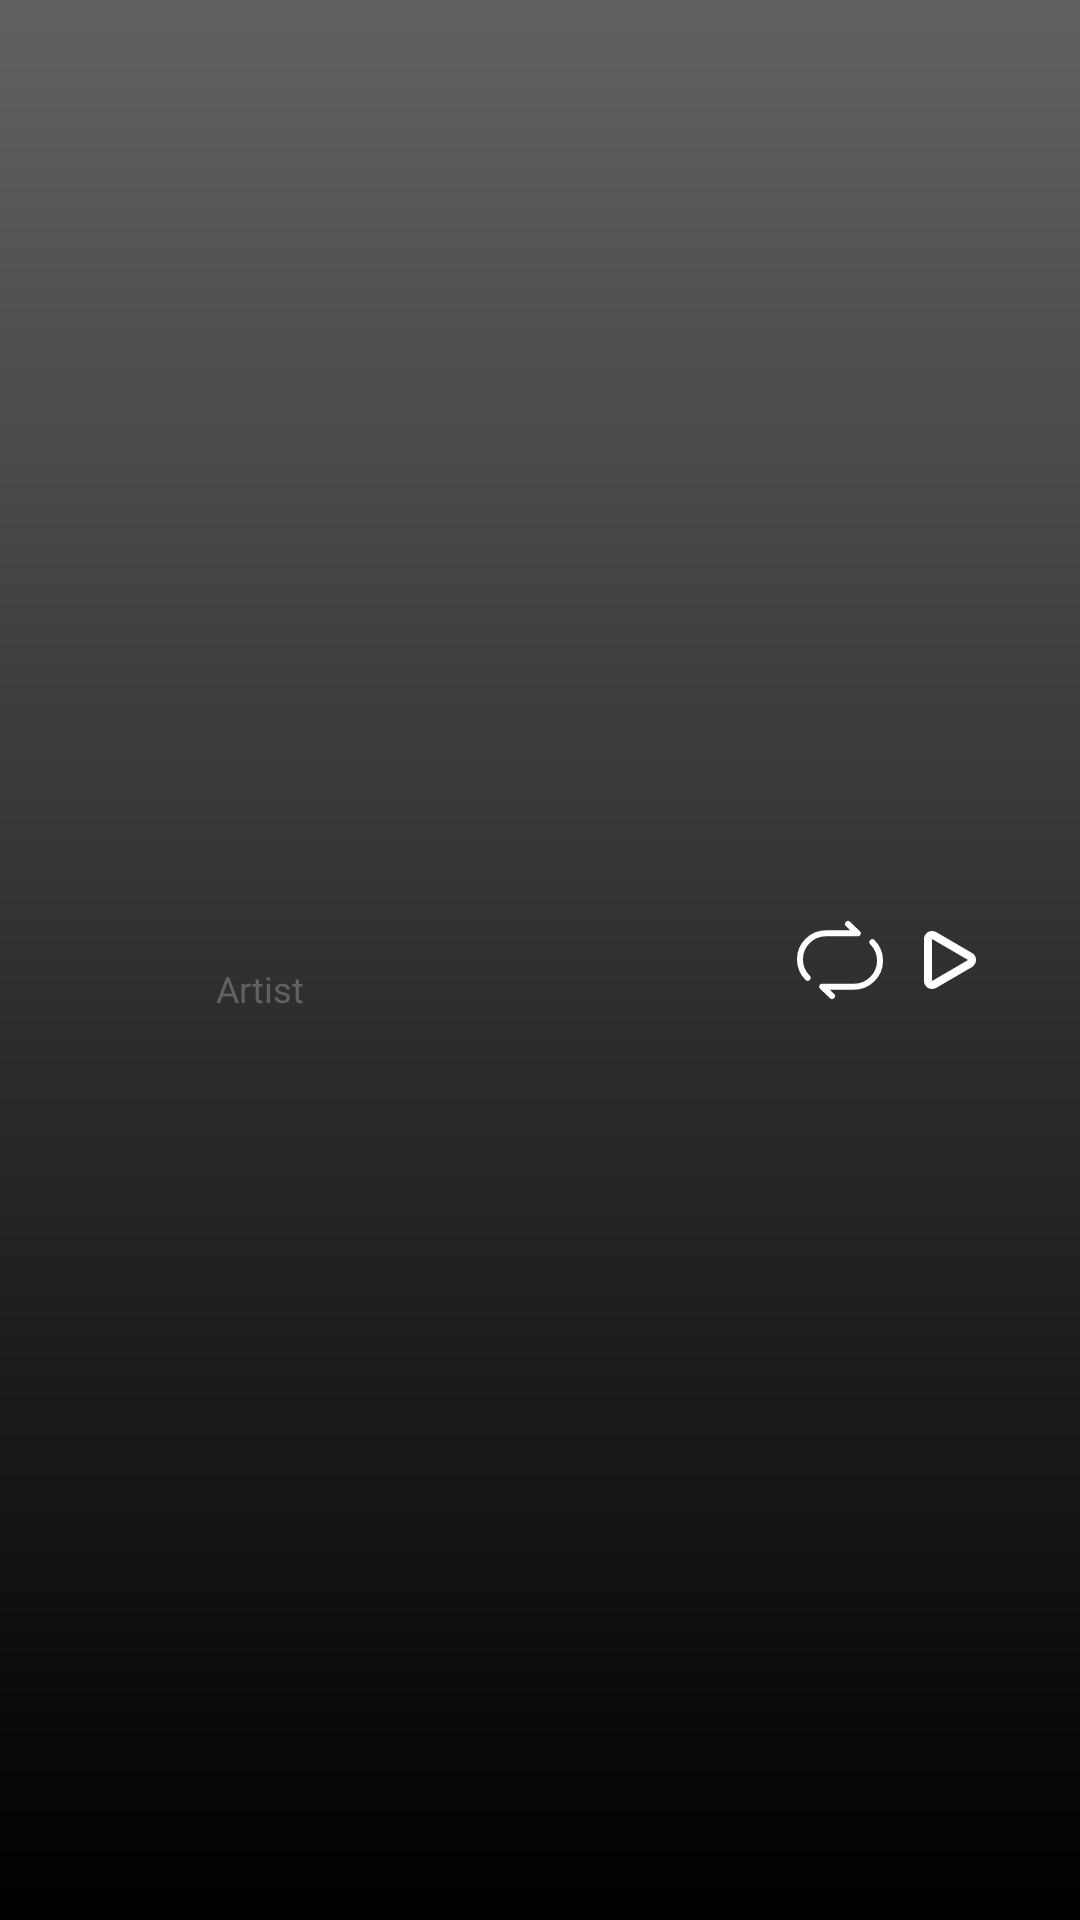

Screen size 1080w x 1920h. Icon name, then its center in pixels as (x,y):
playicon: (950,960)
repeatall: (840,960)
